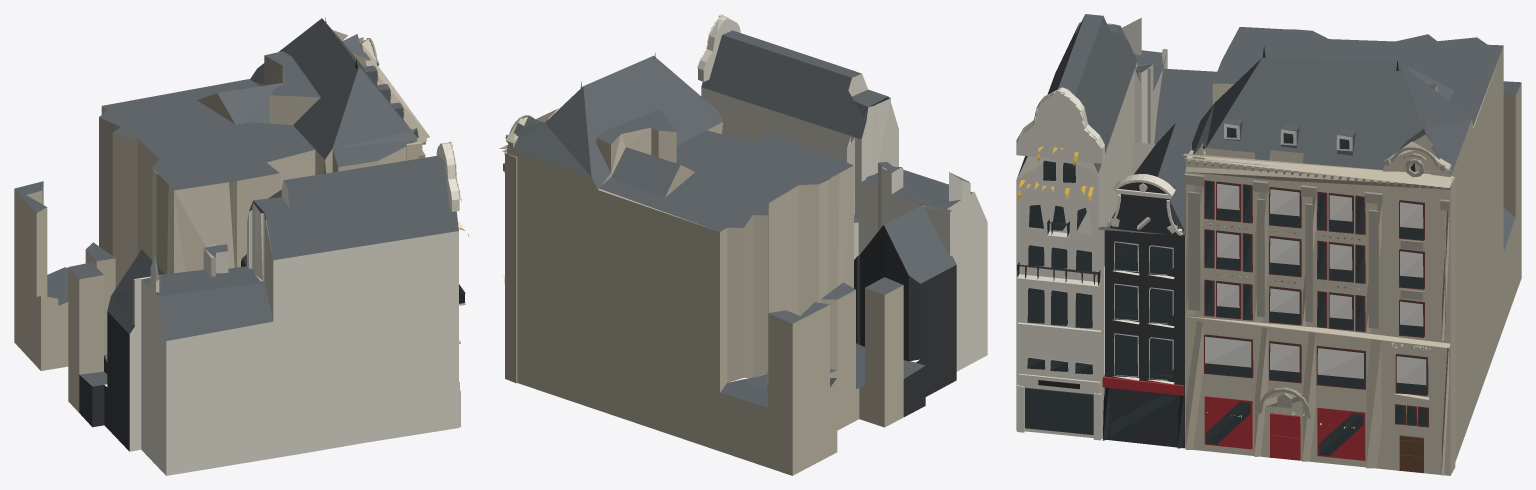
Rendered from hajenius-rokin.lod1.glb.
3 views of the same model, side by side, from view 1: azimuth 30°, elevation 25°; view 2: azimuth 150°, elevation 25°; view 3: azimuth 270°, elevation 25° (orthographic). The views are drawn at different scales.
Visible parts, largest first — view 1: hajenius-rokin; view 2: hajenius-rokin; view 3: hajenius-rokin.
Boxes of the visible parts, <box> form: hajenius-rokin: <box>14,17,469,475</box>; hajenius-rokin: <box>499,14,987,475</box>; hajenius-rokin: <box>1016,14,1521,475</box>.
Size of the model in its own units: 31.81 by 25.75 by 30.9.
